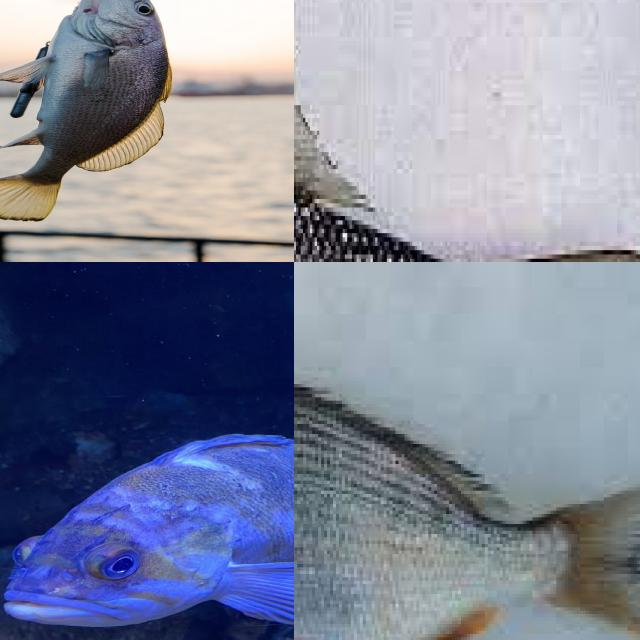fish: (294, 364, 640, 640), (294, 0, 640, 262), (0, 0, 294, 262), (0, 425, 294, 640)
